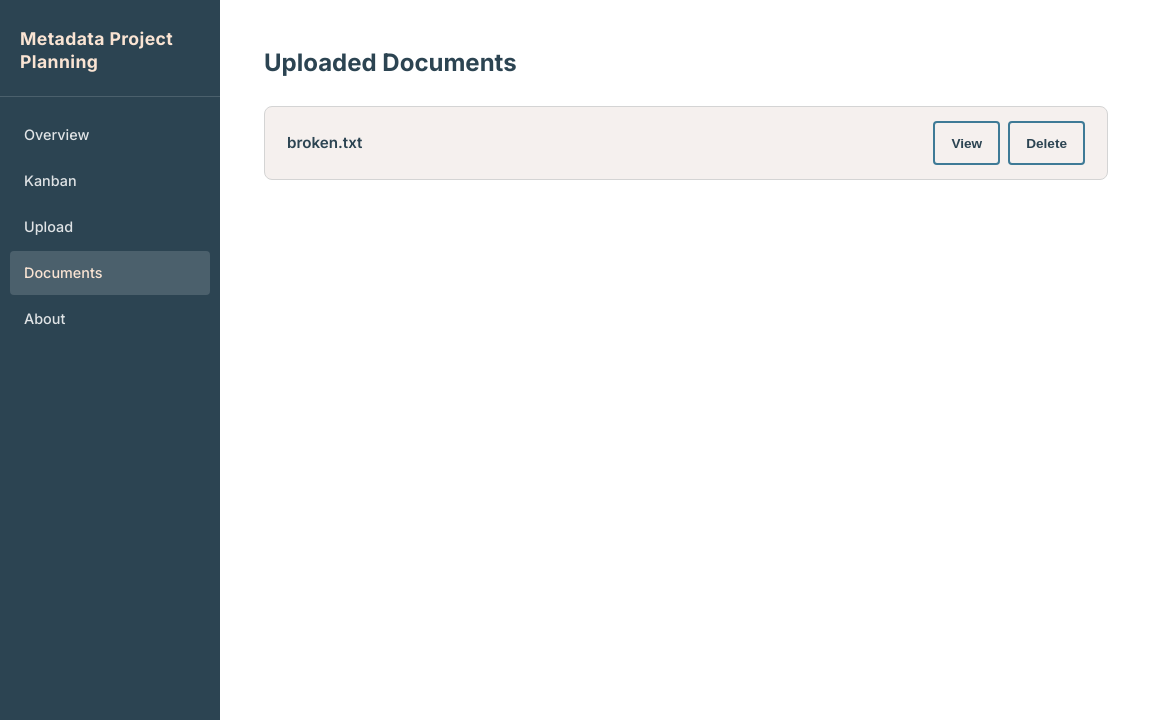
it: Document Management › should handle document load error gracefully
The image size is (1152, 720).
Click the button "View": point(968, 143) 934,121 -> 1001,165
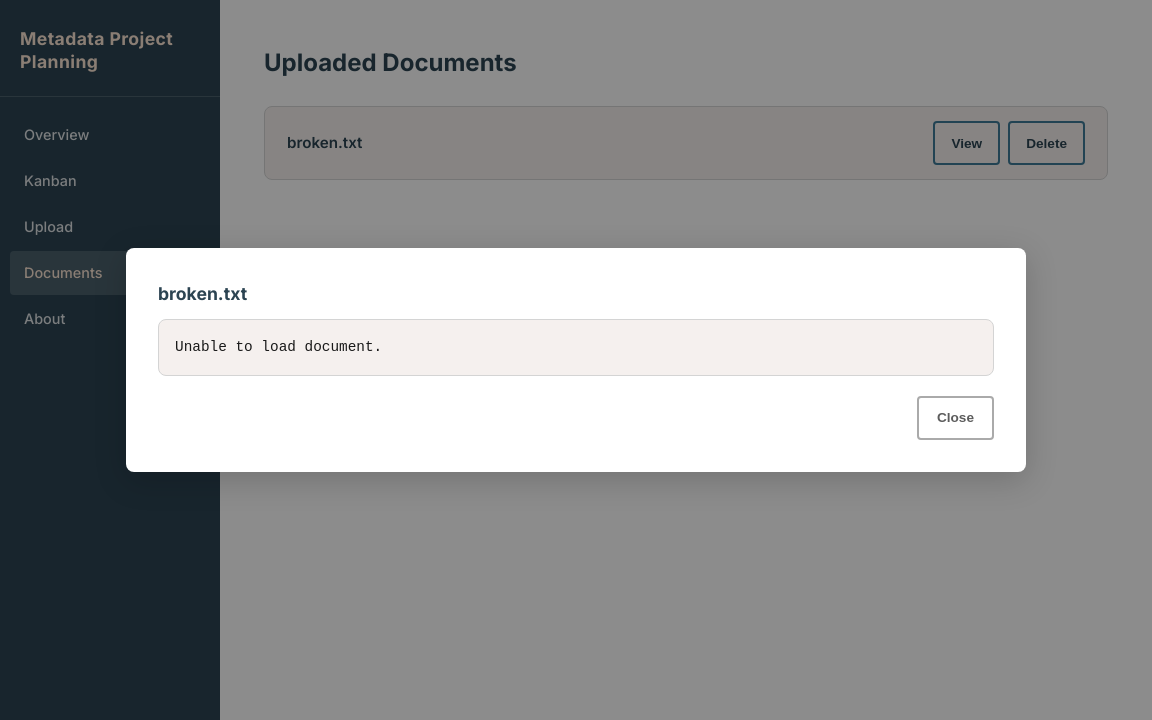
Result: the text "Unable to load document" is shown at 175,339 -> 382,355
